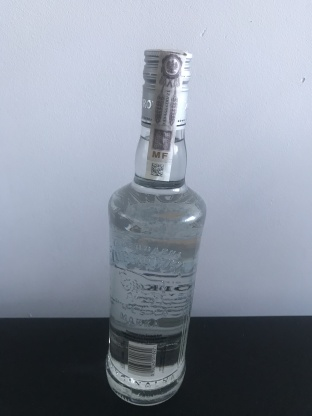nakretka: (138, 43, 194, 132)
